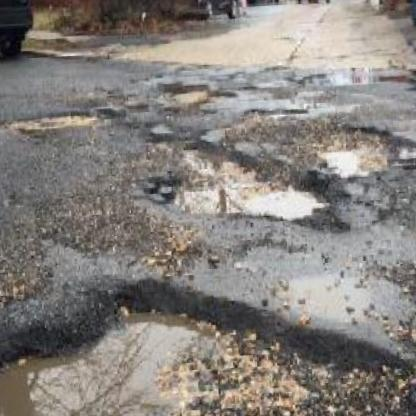pothole: (0, 259, 416, 416), (137, 127, 346, 248), (307, 115, 416, 181), (0, 105, 95, 132), (168, 80, 213, 106)
